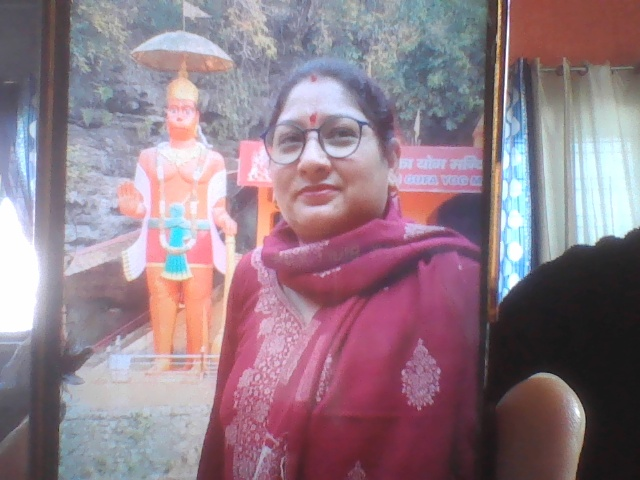fake: (250, 29, 406, 250)
